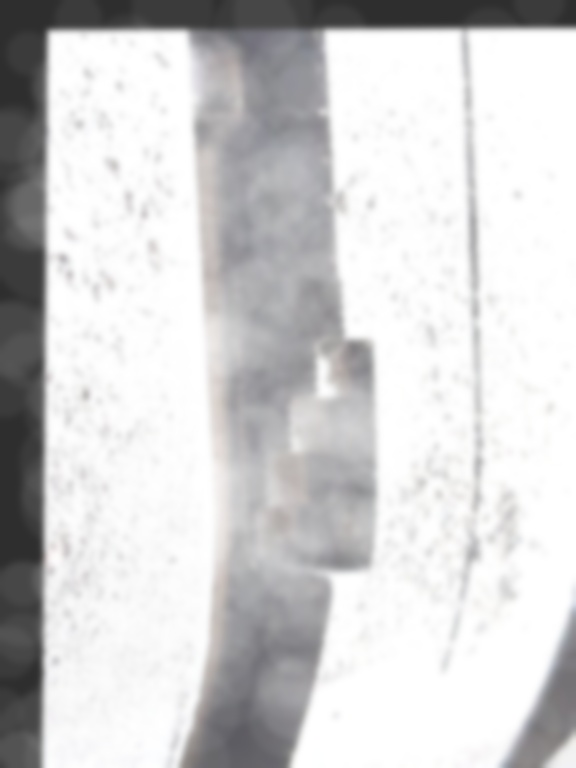temoin:95: (219, 269, 398, 594)
